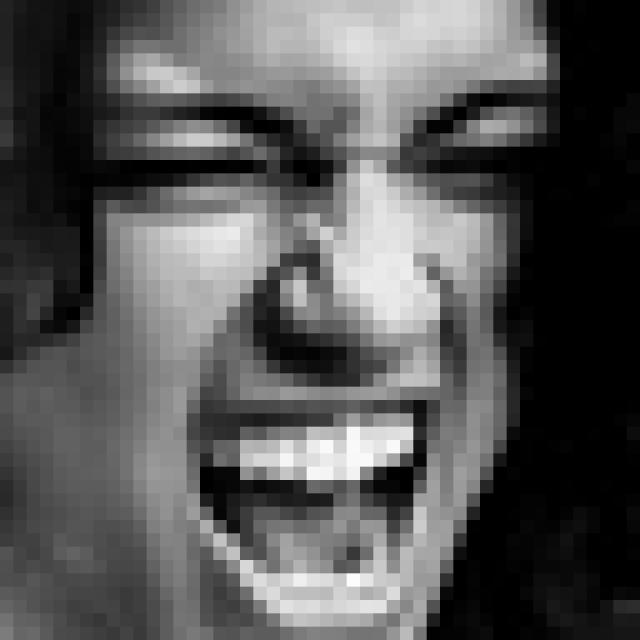angry: (93, 83, 556, 640)
